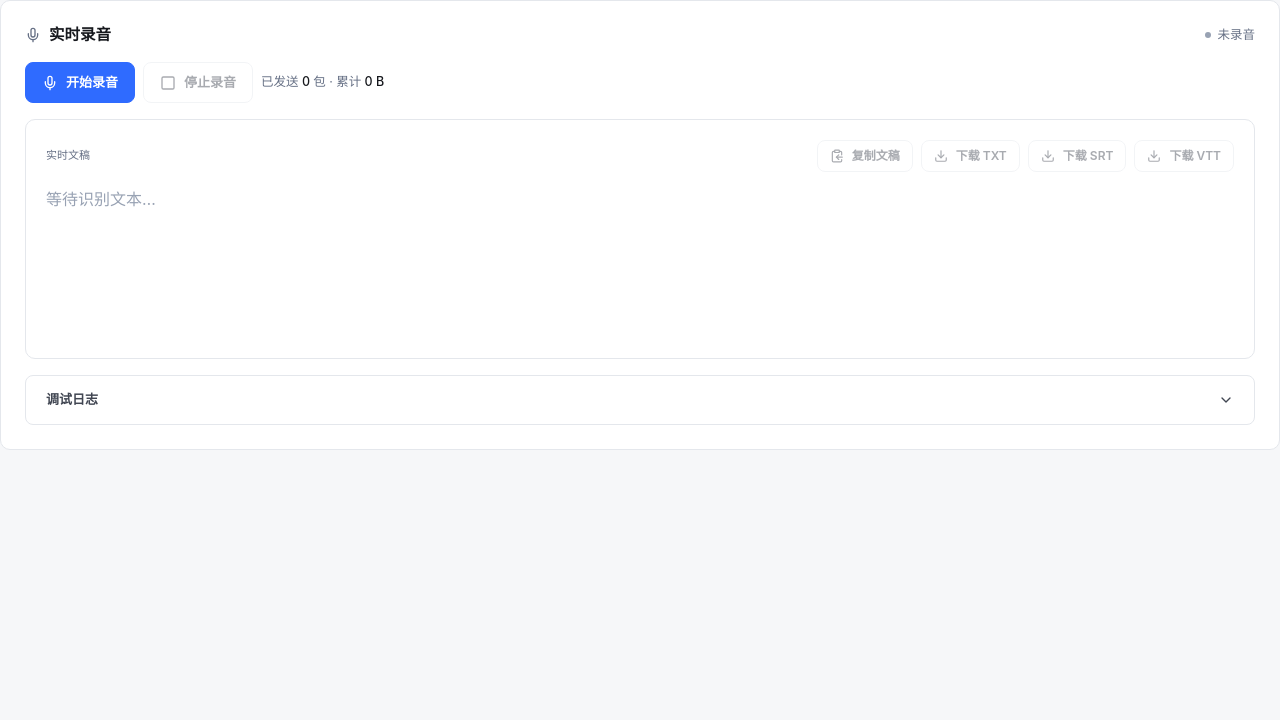
Test case: <RealtimeView /> browser recorder › explains a machine with no audio input instead of saying "Not supported"
Click the button "开始录音". click: [80, 83]
box: x1=25 y1=62 x2=135 y2=103
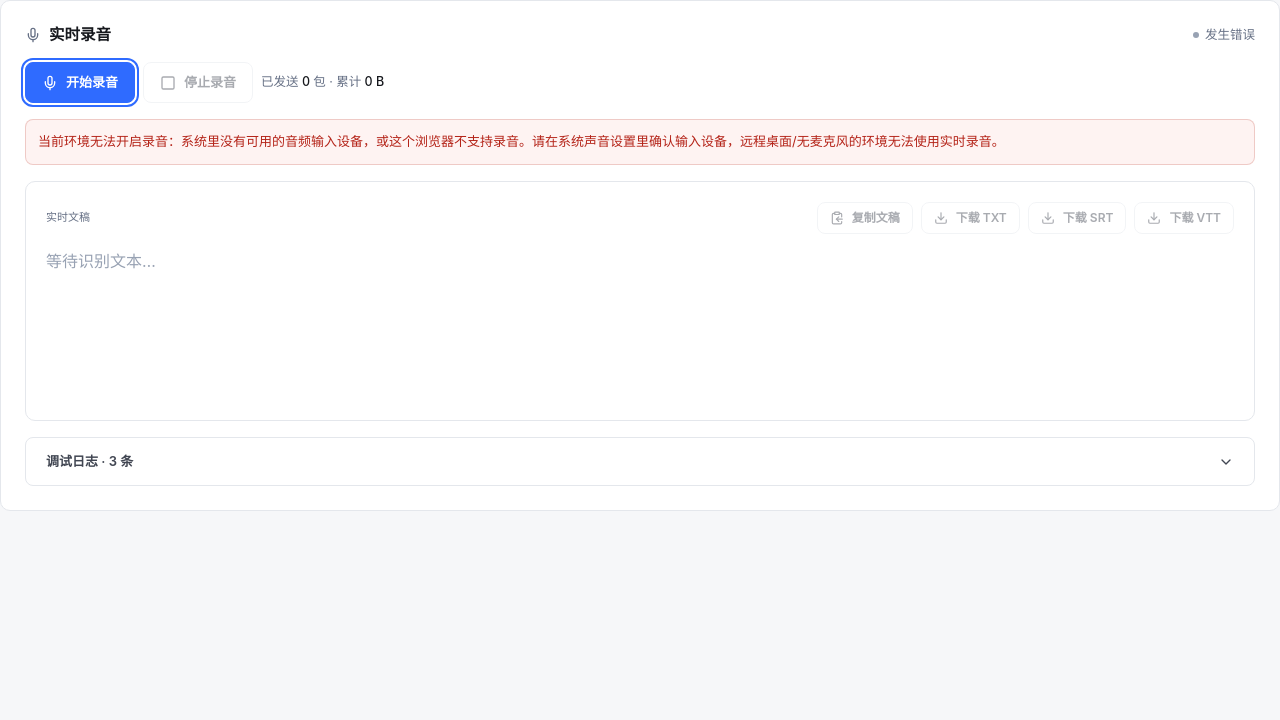
Expected: the text "当前环境无法开启录音：系统里没有可用的音频输入设备，或这个浏览器不支持录音。请在系统声音设置里确认输入设备，远程桌面/无麦克风的环境无法使用实时录音。" is shown, x1=25 y1=119 x2=1255 y2=165
Expected: the text "发生错误" is shown, x1=1193 y1=26 x2=1255 y2=45
